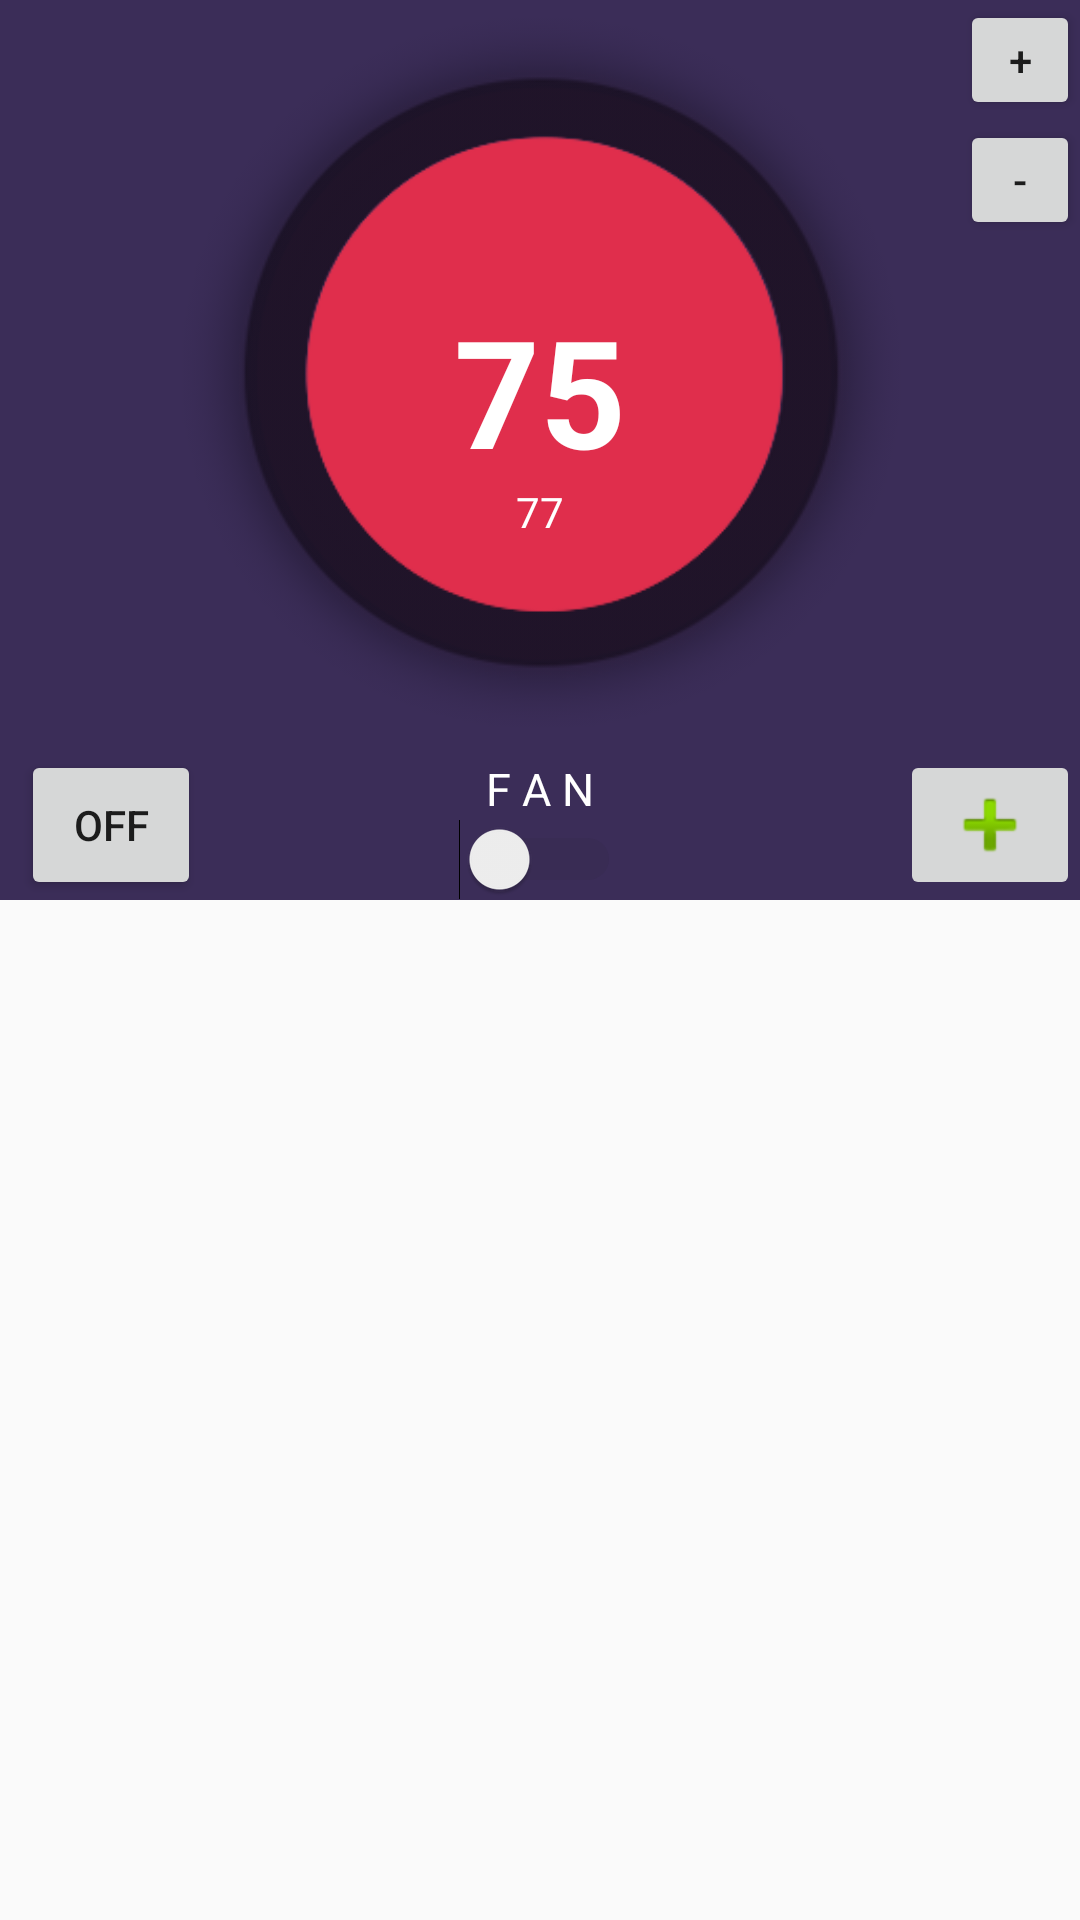

Icon click points for this 1080 × 1920 phone screenshot, format [x,y]:
add: [990,825]
